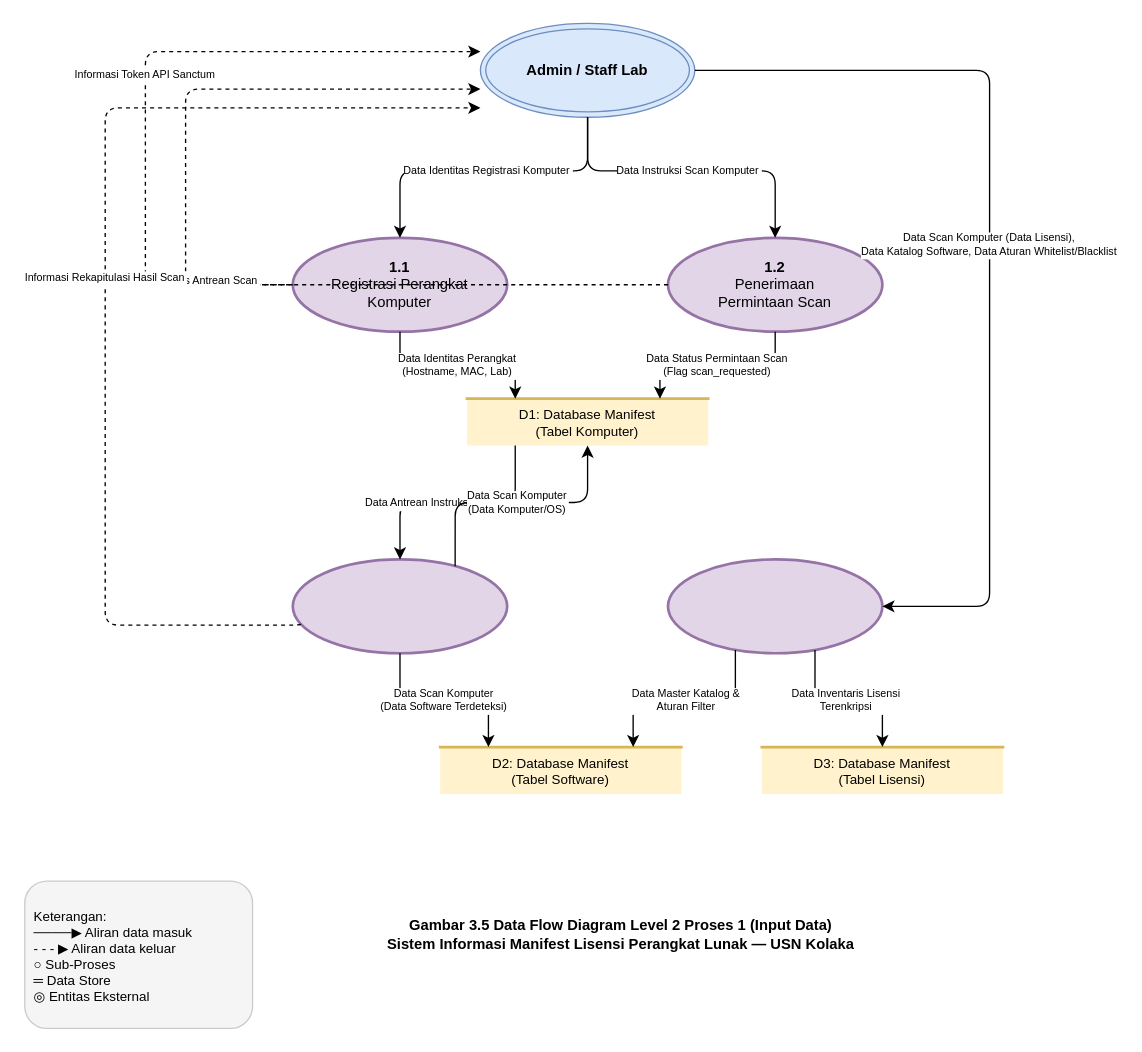
Image size: 1142x1052. Some labels were removed from this diagram. The centre of each missing label's shape, as x and y in pixels:
"1.3 Penerimaan Hasil Scan Komputer" belongs at (x=399, y=605).
"1.4 Pengelolaan Master Data Lisensi & Katalog" belongs at (x=774, y=605).
